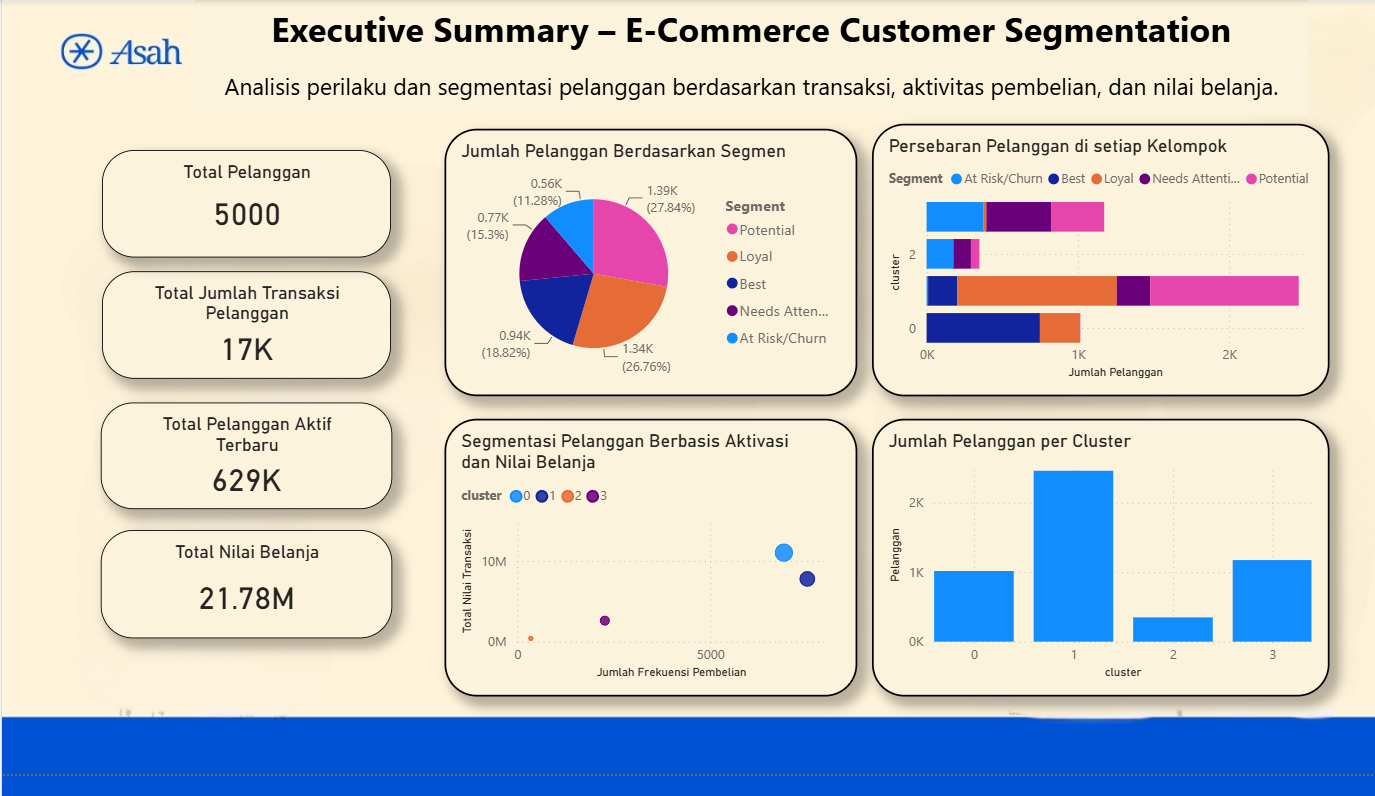

Layout of this report page (visuals, bound fields, positions):
{"tool":"powerbi","page":{"name":"Page 1","canvas":[1280,720],"ordinal":0},"visuals":[{"type":"textbox","box":[179.1,0,1036,107],"z":0},{"type":"card","title":"Total Nilai Belanja","fields":{"Values":["Sum(rfm_kmeans_results_by_customer.Monetary)"]},"box":[91.4,492.8,270.9,101.2],"z":1000},{"type":"card","title":"Total Jumlah Transaksi Pelanggan","fields":{"Values":["Sum(rfm_kmeans_results_by_customer.Frequency)"]},"box":[93.3,252.2,268.6,99.8],"z":2000},{"type":"card","title":"Total Pelanggan Aktif Terbaru","fields":{"Values":["Sum(rfm_kmeans_results_by_customer.Recency)"]},"box":[91.4,374.2,270.9,98.8],"z":3000},{"type":"pieChart","title":"Jumlah Pelanggan Berdasarkan Segmen","fields":{"Y":["CountNonNull(rfm_kmeans_results_by_customer.Customer_ID)"],"Category":["rfm_kmeans_results_by_customer.Segment"]},"box":[411.9,120,383.7,248.8],"z":4000},{"type":"scatterChart","title":"Segmentasi Pelanggan Berbasis Aktivasi dan Nilai Belanja","fields":{"Y":["Sum(rfm_kmeans_results_by_customer.Monetary)"],"X":["Sum(rfm_kmeans_results_by_customer.Frequency)"],"Series":["rfm_kmeans_results_by_customer.cluster"],"Size":["Sum(rfm_kmeans_results_by_customer.Monetary)"]},"box":[411.9,389.8,383.7,258.1],"z":5000},{"type":"barChart","title":"Persebaran Pelanggan di setiap Kelompok","fields":{"Category":["rfm_kmeans_results_by_customer.cluster"],"Y":["CountNonNull(rfm_kmeans_results_by_customer.Customer_ID)"],"Series":["rfm_kmeans_results_by_customer.Segment"]},"box":[809.5,115.3,425.6,253.5],"z":6000},{"type":"columnChart","title":"Jumlah Pelanggan per Cluster","fields":{"Category":["rfm_kmeans_results_by_customer.cluster"],"Y":["CountNonNull(rfm_kmeans_results_by_customer.Customer_ID)"]},"box":[809.5,389.8,425.6,258.1],"z":7000},{"type":"card","title":"Total Pelanggan","fields":{"Values":["CountNonNull(rfm_kmeans_results_by_customer.Customer_ID)"]},"box":[93.3,140,268.6,99.8],"z":8000}]}

Visuals, with their boxes in screenshot pixels (x1, y1, x2, y2), scaled from the page's 1280x720 canvas onto the 1375x796 screenshot:
textbox: bbox=[192, 0, 1305, 118]
"Total Nilai Belanja" card: bbox=[98, 545, 389, 657]
"Total Jumlah Transaksi Pelanggan" card: bbox=[100, 279, 389, 389]
"Total Pelanggan Aktif Terbaru" card: bbox=[98, 414, 389, 523]
"Jumlah Pelanggan Berdasarkan Segmen" pieChart: bbox=[442, 133, 855, 408]
"Segmentasi Pelanggan Berbasis Aktivasi dan Nilai Belanja" scatterChart: bbox=[442, 431, 855, 716]
"Persebaran Pelanggan di setiap Kelompok" barChart: bbox=[870, 127, 1327, 408]
"Jumlah Pelanggan per Cluster" columnChart: bbox=[870, 431, 1327, 716]
"Total Pelanggan" card: bbox=[100, 155, 389, 265]
